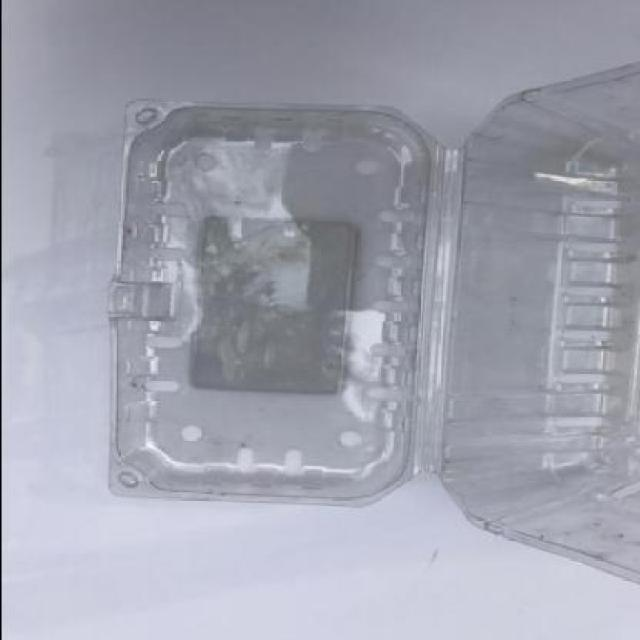PLASTIC: (103, 63, 639, 586), (99, 102, 443, 504), (430, 62, 638, 588)
